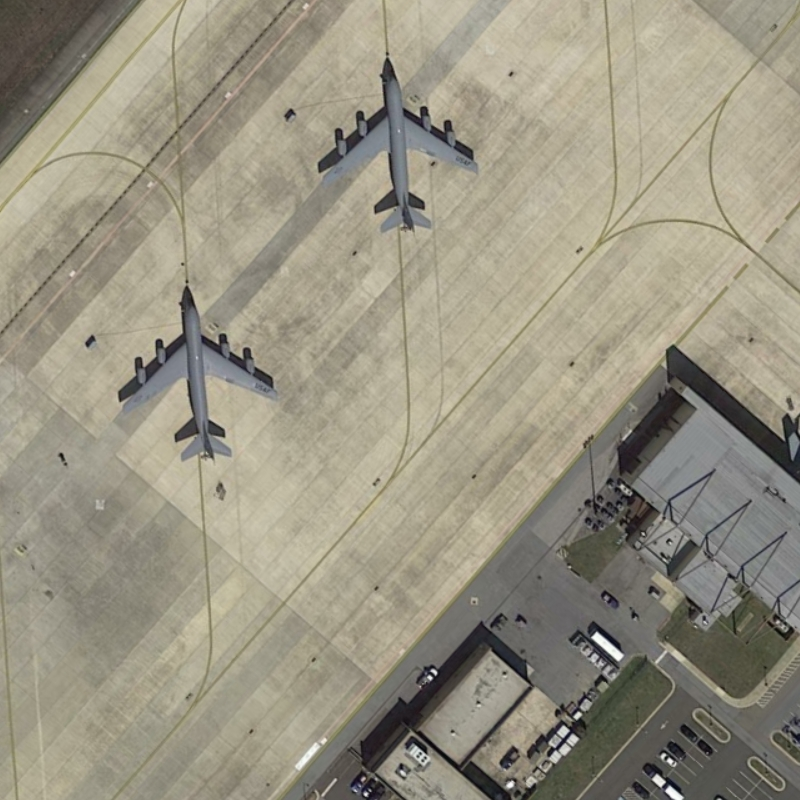A14: (118, 291, 281, 469), (316, 62, 482, 236)
